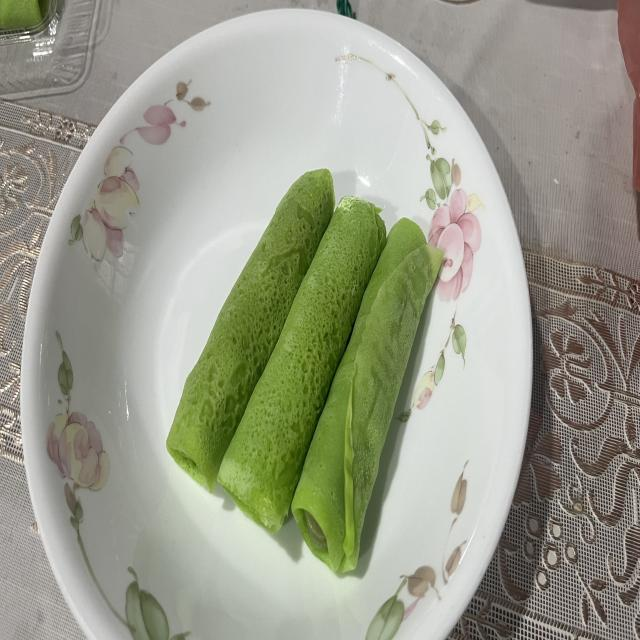Kuih-Ketayap: (218, 196, 386, 531), (166, 169, 335, 491), (291, 218, 444, 573)
